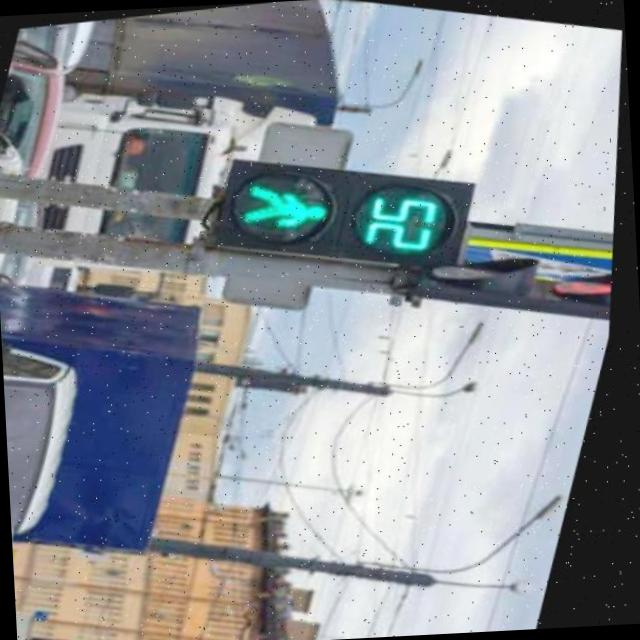green_light: (224, 150, 462, 278)
